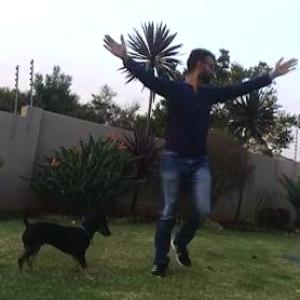takeoff: (100, 32, 294, 280)
